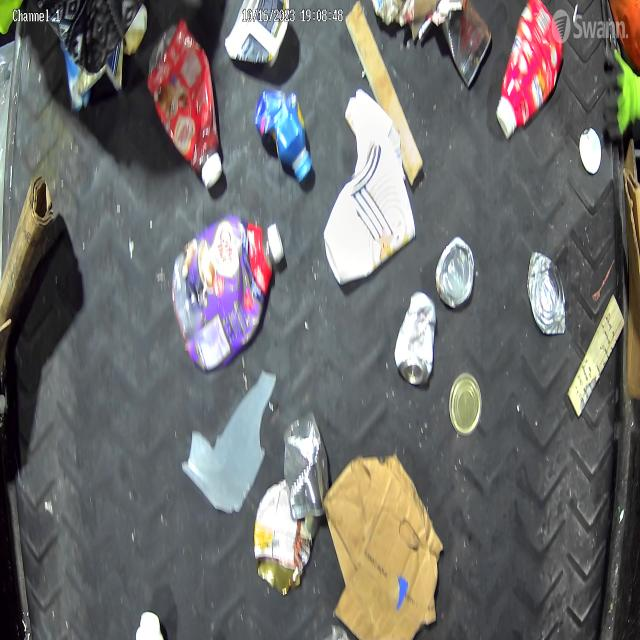can: (254, 477, 318, 596), (283, 407, 331, 522), (435, 0, 495, 91), (391, 287, 437, 390), (524, 242, 570, 339), (434, 230, 476, 310), (448, 366, 483, 436)
non_white_jug: (171, 212, 287, 370), (145, 21, 225, 187), (496, 0, 566, 140)
